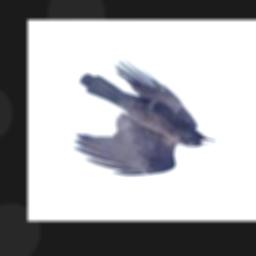Crow: (74, 61, 216, 177)
